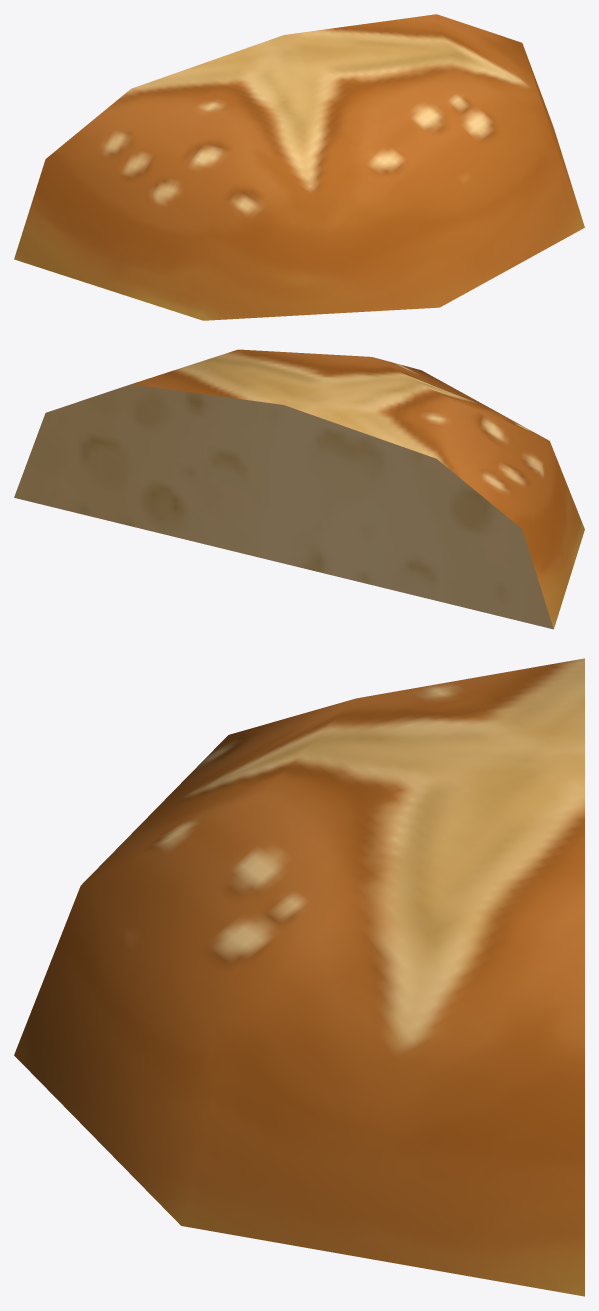
The model's file is SM_PROP_food_bread_01.FBX.
The picture shows the model from 3 angles, top to bottom: view 1: azimuth 30°, elevation 25°; view 2: azimuth 150°, elevation 25°; view 3: azimuth 270°, elevation 25°; orthographic projection. The views are drawn at different scales.
Parts seen in each view (by area): view 1: SM_PROP_food_bread_01; view 2: SM_PROP_food_bread_01; view 3: SM_PROP_food_bread_01.
Part boxes in pixels (box(x1,y1,x2,y2)): SM_PROP_food_bread_01: box(14, 14, 584, 320); SM_PROP_food_bread_01: box(14, 349, 584, 629); SM_PROP_food_bread_01: box(14, 658, 584, 1296).
Size of the model in its own units: 34.62 by 17.31 by 9.72.
